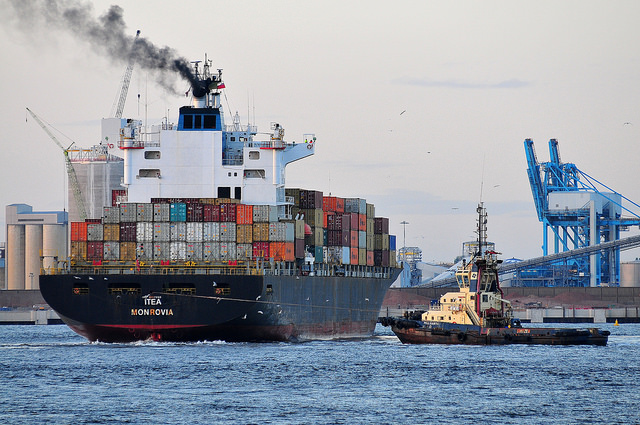container_ship: (40, 79, 394, 346)
tug_boat: (388, 204, 611, 350)
